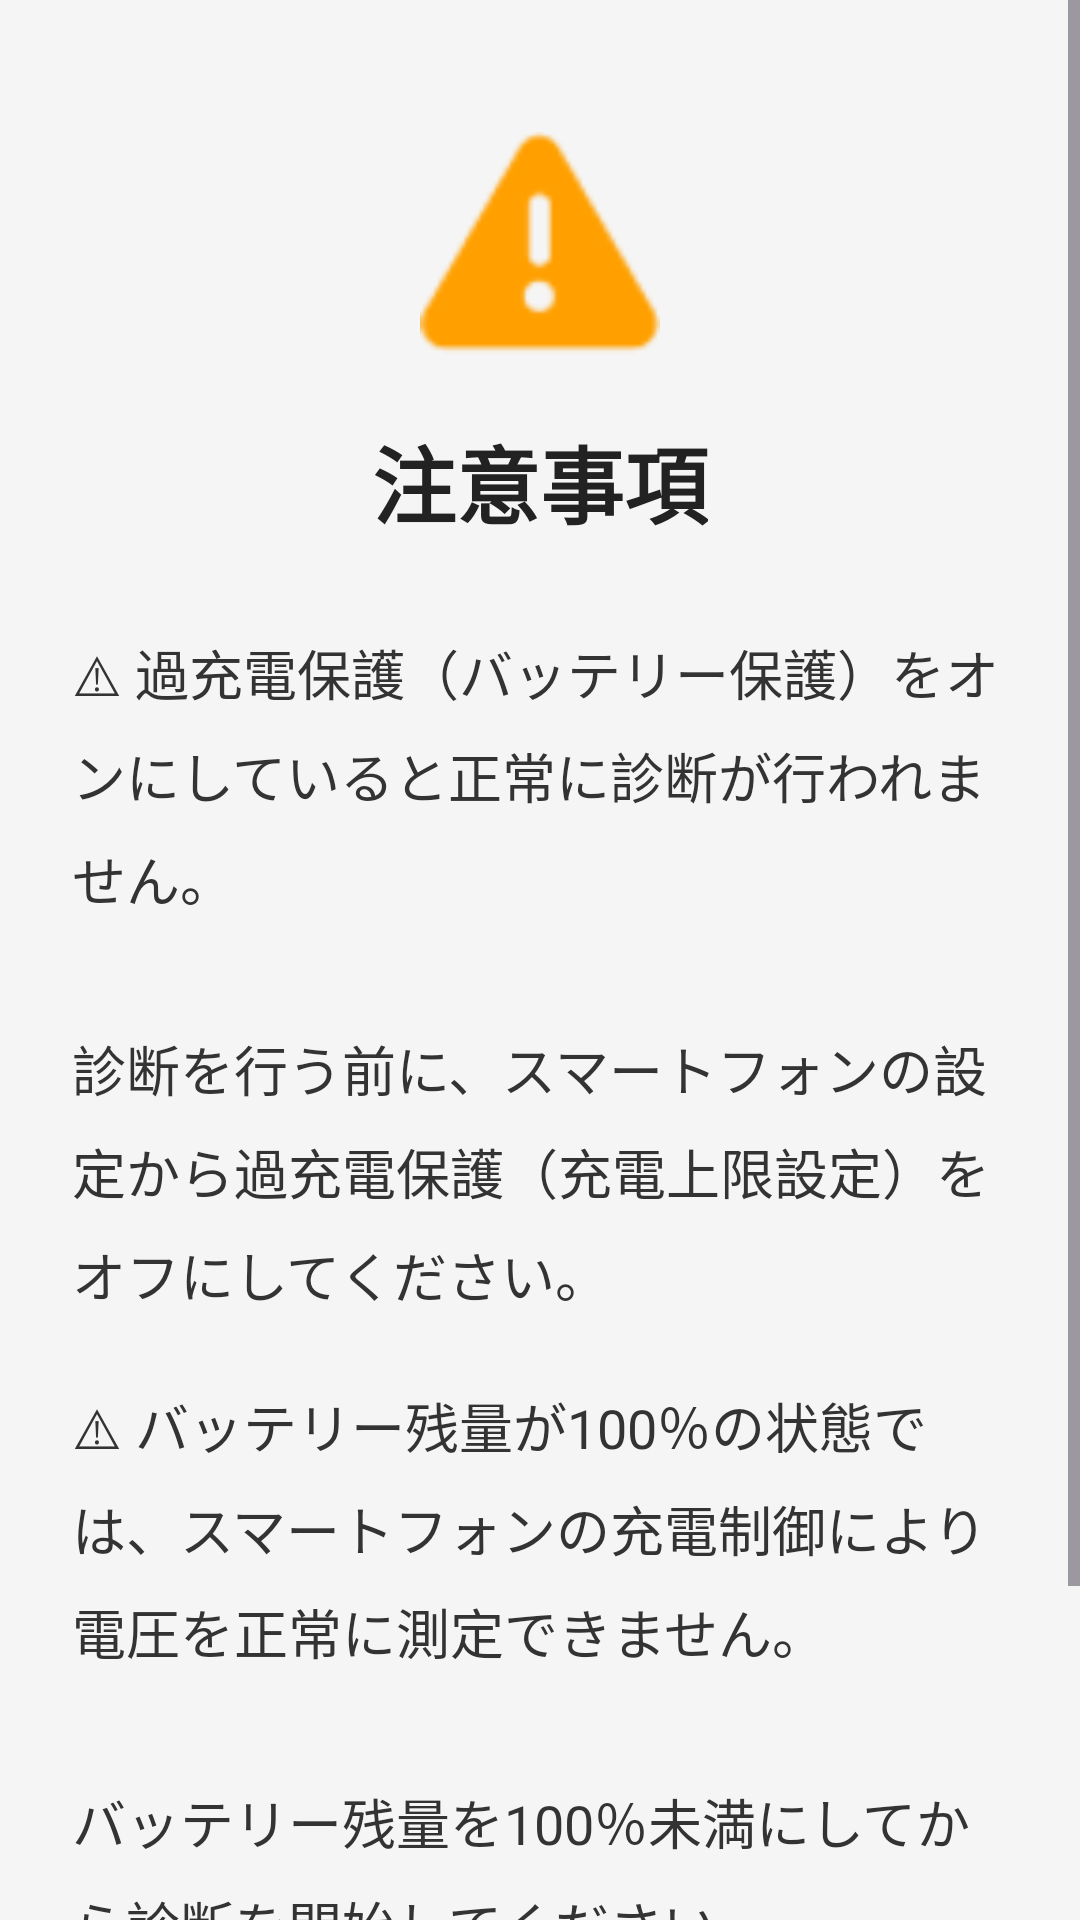

Icons on this 1080 x 1920 Android screen, each with the point to tap as (x=x, y=y):
alert: (x=540, y=241)
